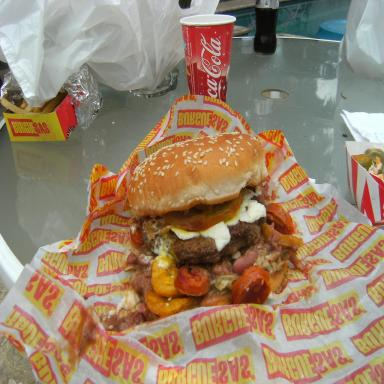plasticbag: (0, 0, 219, 106), (338, 0, 384, 81)
